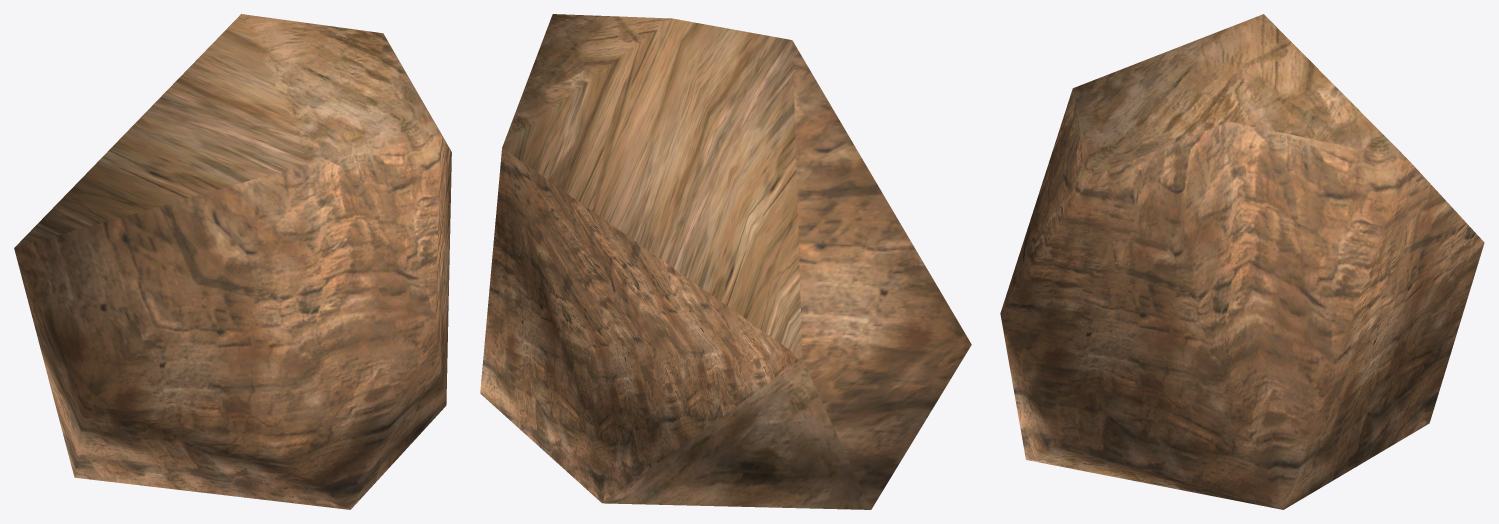
The model's file is rock_tatt_bensmesa_boulder_a1_l3.fbx.
The picture shows the model from 3 angles, left to right: view 1: azimuth 30°, elevation 25°; view 2: azimuth 150°, elevation 25°; view 3: azimuth 270°, elevation 25°; orthographic projection. The views are drawn at different scales.
Parts seen in each view (by area): view 1: mesh_node; view 2: mesh_node; view 3: mesh_node.
Part boxes in pixels (x1,y1,x2,y2): mesh_node: (14, 14, 451, 509); mesh_node: (480, 14, 971, 509); mesh_node: (1000, 14, 1484, 509).
Bounding box in the file's own units: 3.42 × 3.47 × 3.41.
